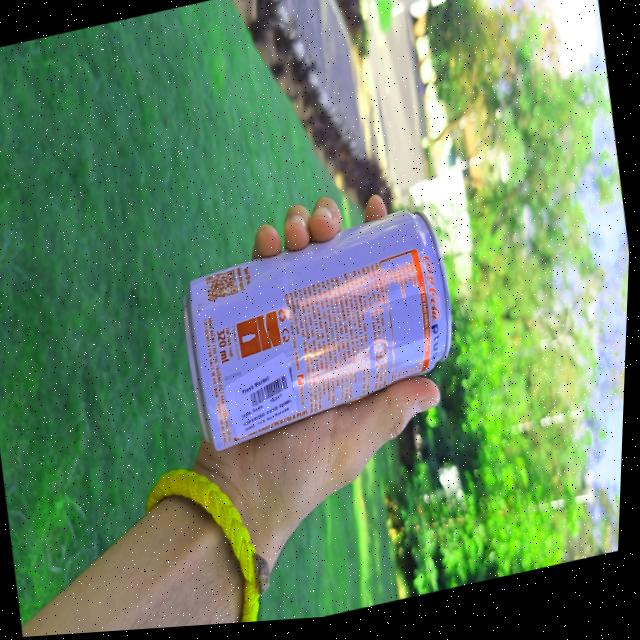Coca Cola Plus: (175, 201, 471, 481)
